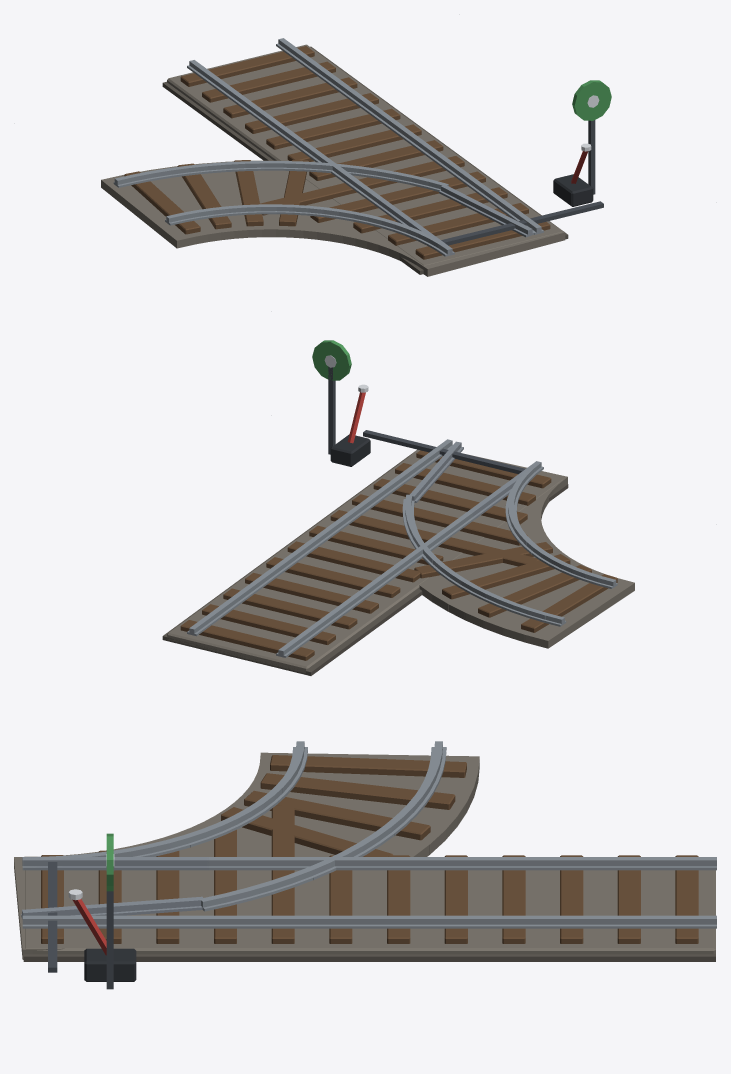
Rendered from rail_aiguillage_g_droit.glb.
The picture shows the model from 3 angles, top to bottom: view 1: azimuth 30°, elevation 25°; view 2: azimuth 150°, elevation 25°; view 3: azimuth 270°, elevation 25°; orthographic projection. The views are drawn at different scales.
Visible parts, largest first — view 1: rail_ballast.016, rail_traverse.018, rail_rail.018, rail_acier.008, rail_acier_sombre.008, rail_ballast_sombre.010, rail_vert.004, rail_fonte.008; view 2: rail_ballast.016, rail_traverse.018, rail_rail.018, rail_ballast_sombre.010, rail_acier_sombre.008, rail_acier.008, rail_vert.004, rail_fonte.008; view 3: rail_ballast.016, rail_traverse.018, rail_rail.018, rail_ballast_sombre.010, rail_acier.008, rail_acier_sombre.008, rail_fonte.008.
Boxes of the visible parts, box(x1,y1,x2,y2) form: rail_ballast.016: box(101, 44, 565, 276); rail_traverse.018: box(124, 46, 550, 259); rail_rail.018: box(113, 38, 543, 256); rail_acier.008: box(375, 184, 533, 256); rail_acier_sombre.008: box(441, 120, 603, 245); rail_ballast_sombre.010: box(162, 46, 568, 274); rail_vert.004: box(572, 80, 611, 120); rail_fonte.008: box(553, 174, 593, 206); rail_ballast.016: box(167, 449, 634, 673); rail_traverse.018: box(180, 450, 617, 660); rail_rail.018: box(187, 439, 617, 657); rail_ballast_sombre.010: box(162, 450, 568, 675); rail_acier_sombre.008: box(328, 366, 525, 474); rail_acier.008: box(410, 441, 543, 518); rail_vert.004: box(312, 340, 351, 380); rail_fonte.008: box(330, 434, 370, 466); rail_ballast.016: box(14, 752, 715, 959); rail_traverse.018: box(41, 755, 698, 943); rail_rail.018: box(22, 741, 716, 928); rail_ballast_sombre.010: box(23, 953, 715, 961); rail_acier.008: box(21, 857, 209, 919); rail_acier_sombre.008: box(48, 862, 113, 989); rail_fonte.008: box(84, 948, 136, 981).
Size of the model in its own units: 3.04 by 0.777 by 3.05.
